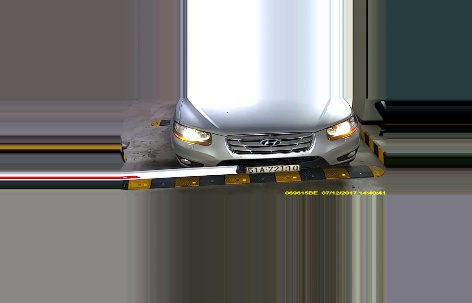plate: (246, 163, 299, 174)
